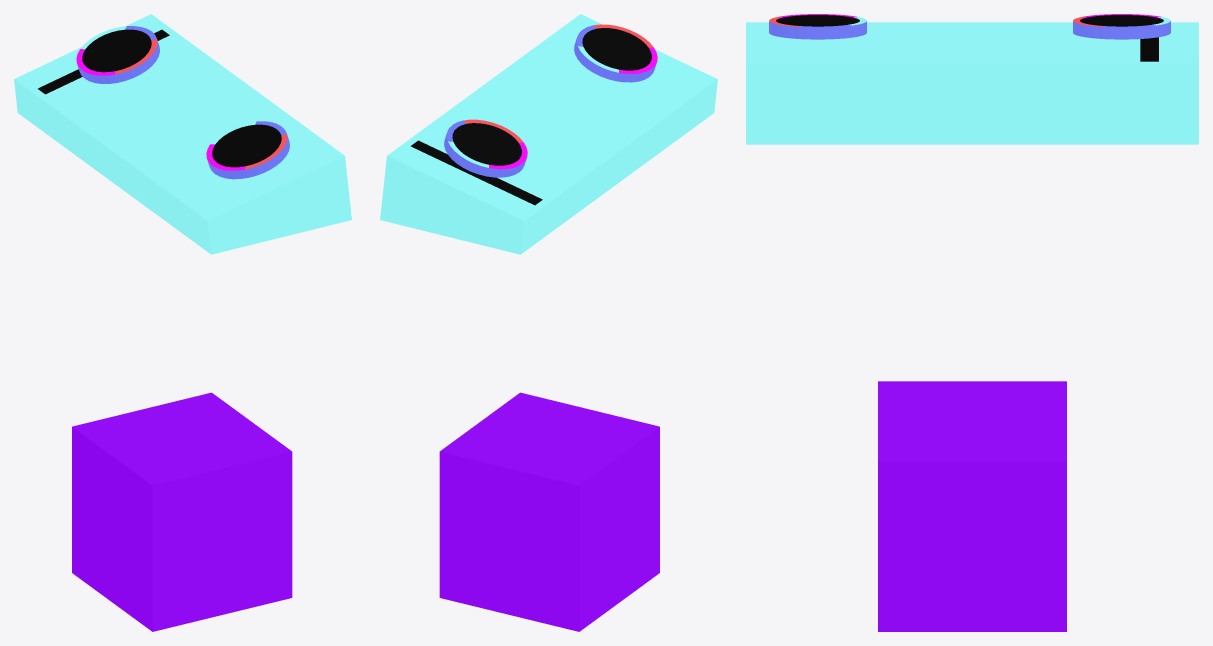
Rendered from platine.gltf.
The picture shows the model from 3 angles, left to right: view 1: azimuth 30°, elevation 25°; view 2: azimuth 150°, elevation 25°; view 3: azimuth 270°, elevation 25°; orthographic projection. The views are drawn at different scales.
Visible parts, largest first — view 1: Cube, Cube.001, Cylinder, Cylinder.001; view 2: Cube, Cube.001, Cylinder, Cylinder.001; view 3: Cube.001, Cube, Cylinder.001, Cylinder.
Part boxes in pixels (box(x1,y1,x2,y2)): Cube: box(72, 392, 292, 631); Cube.001: box(14, 14, 351, 254); Cylinder: box(206, 121, 289, 179); Cylinder.001: box(76, 26, 159, 83); Cube: box(439, 392, 659, 631); Cube.001: box(380, 14, 717, 254); Cylinder: box(574, 24, 657, 82); Cylinder.001: box(444, 119, 527, 177); Cube.001: box(746, 22, 1198, 144); Cube: box(878, 381, 1066, 631); Cylinder.001: box(1073, 14, 1170, 39); Cylinder: box(769, 14, 866, 39).
Bounding box in the file's own units: 2.06 × 6.83 × 4.8.
